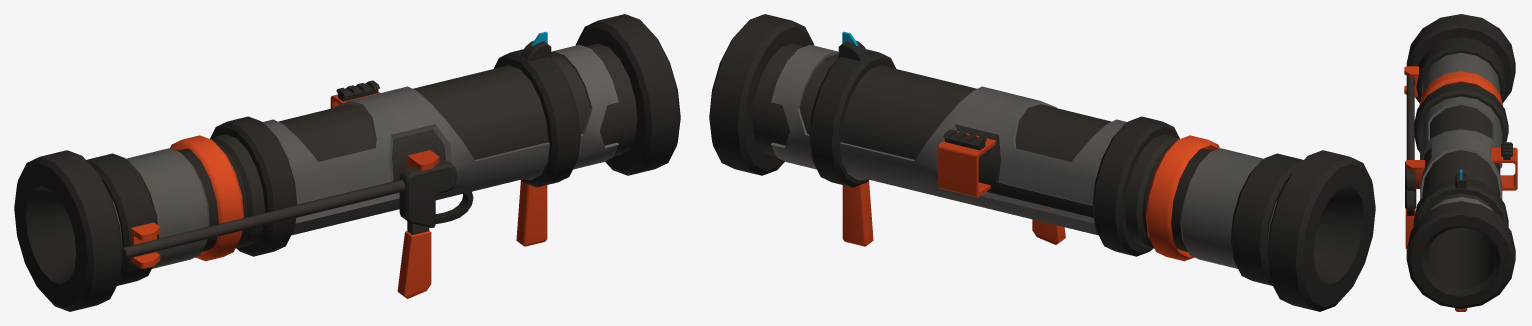
The picture shows the model from 3 angles, left to right: view 1: azimuth 30°, elevation 25°; view 2: azimuth 150°, elevation 25°; view 3: azimuth 270°, elevation 25°; orthographic projection. The views are drawn at different scales.
Visible parts, largest first — view 1: GL5_Base; view 2: GL5_Base; view 3: GL5_Base.
Boxes of the visible parts, <box> form: GL5_Base: <box>14,14,680,311</box>; GL5_Base: <box>709,14,1375,311</box>; GL5_Base: <box>1404,14,1517,311</box>.
Size of the model in its own units: 102 by 33.83 by 24.6.
